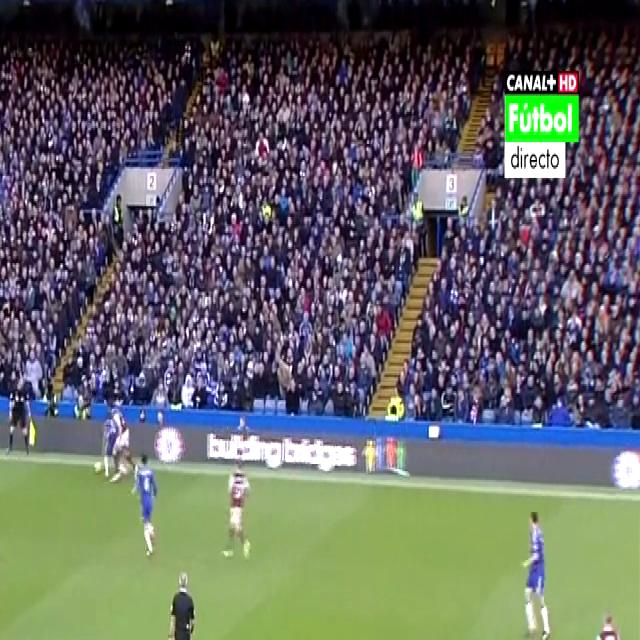referee: (0, 359, 35, 464), (165, 563, 202, 640)
soccer-player: (512, 498, 554, 640), (218, 455, 254, 571), (128, 450, 162, 566), (586, 604, 632, 640), (0, 514, 6, 640)
